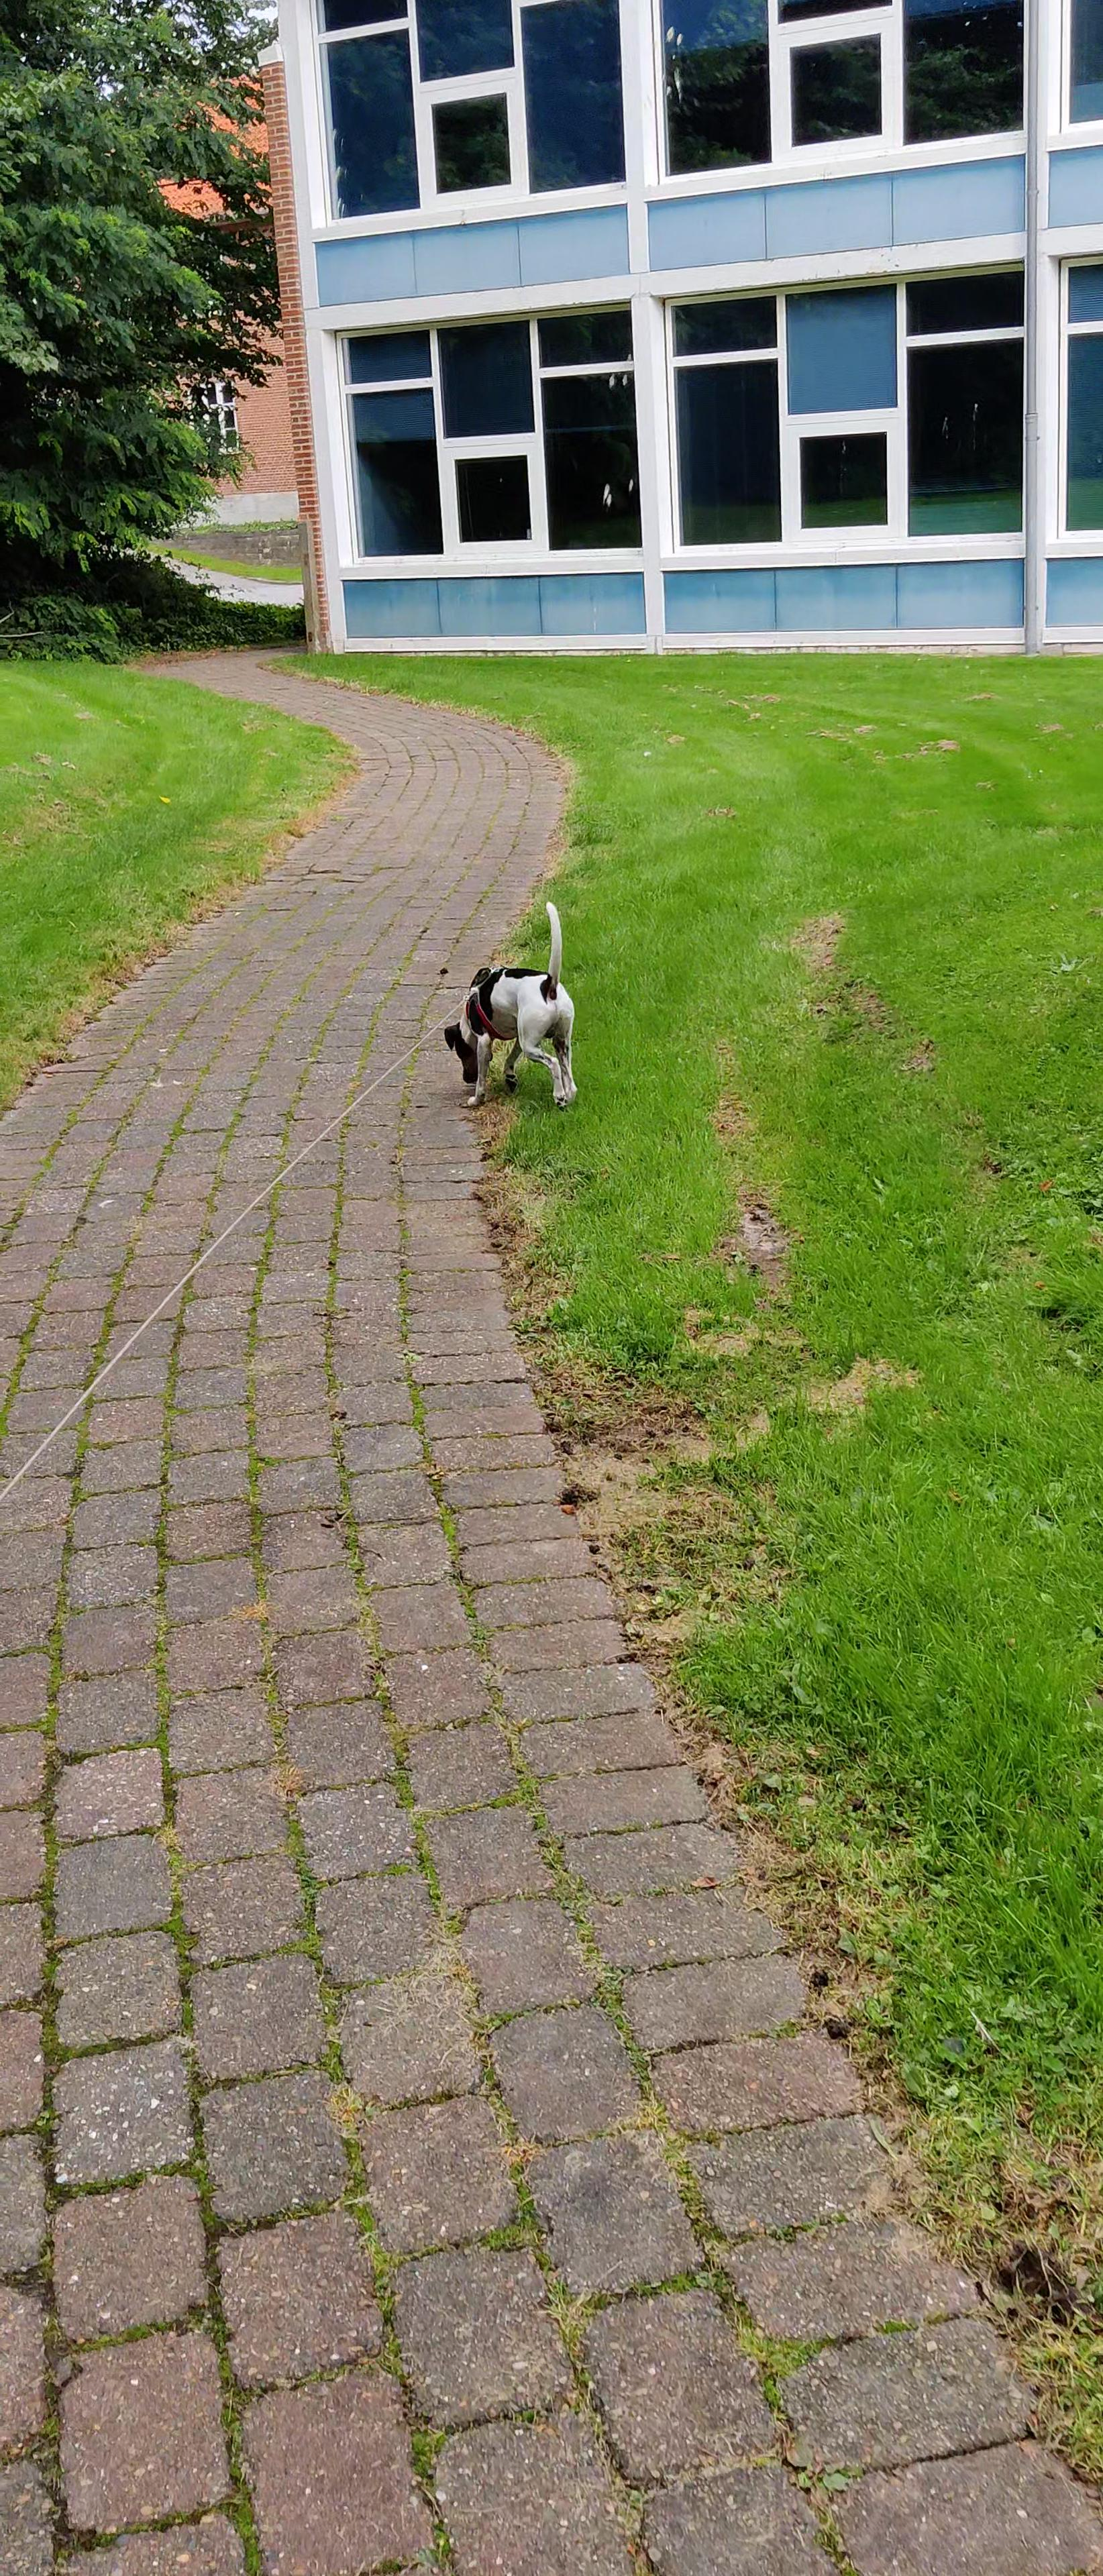Dog: (429, 885, 598, 1124)
